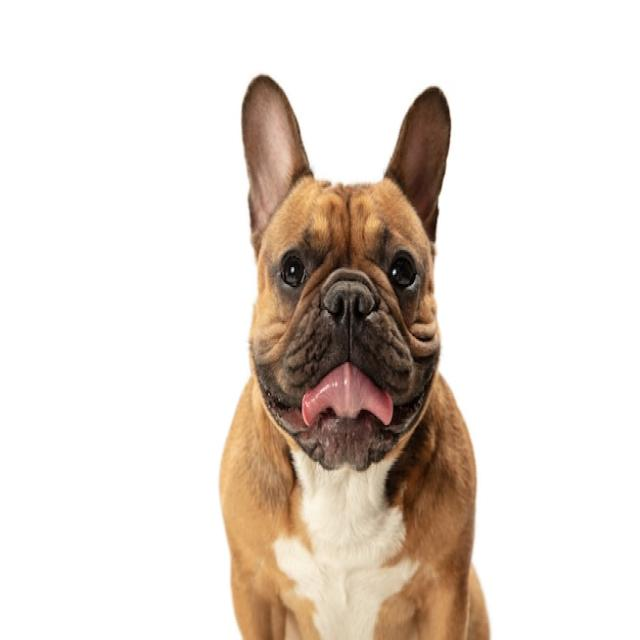Dog: (218, 73, 487, 640)
